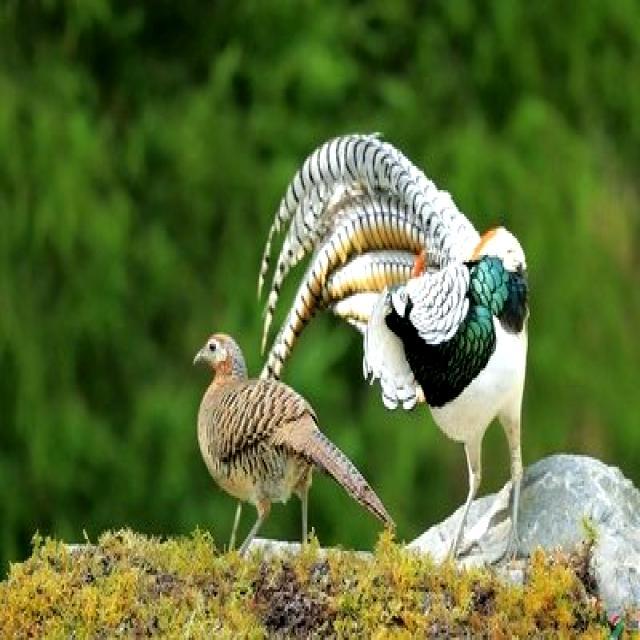Chrysolophus amherstiae: (261, 132, 478, 378)
